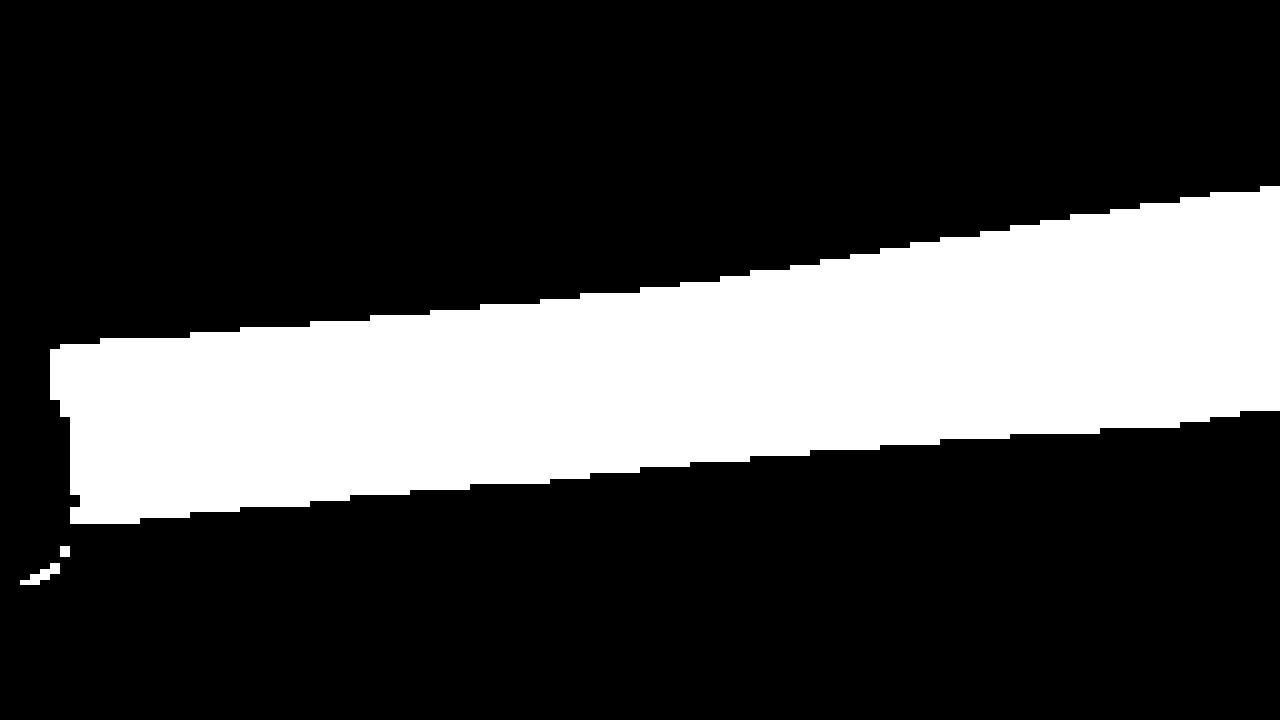Turbine: (34, 160, 1264, 573)
